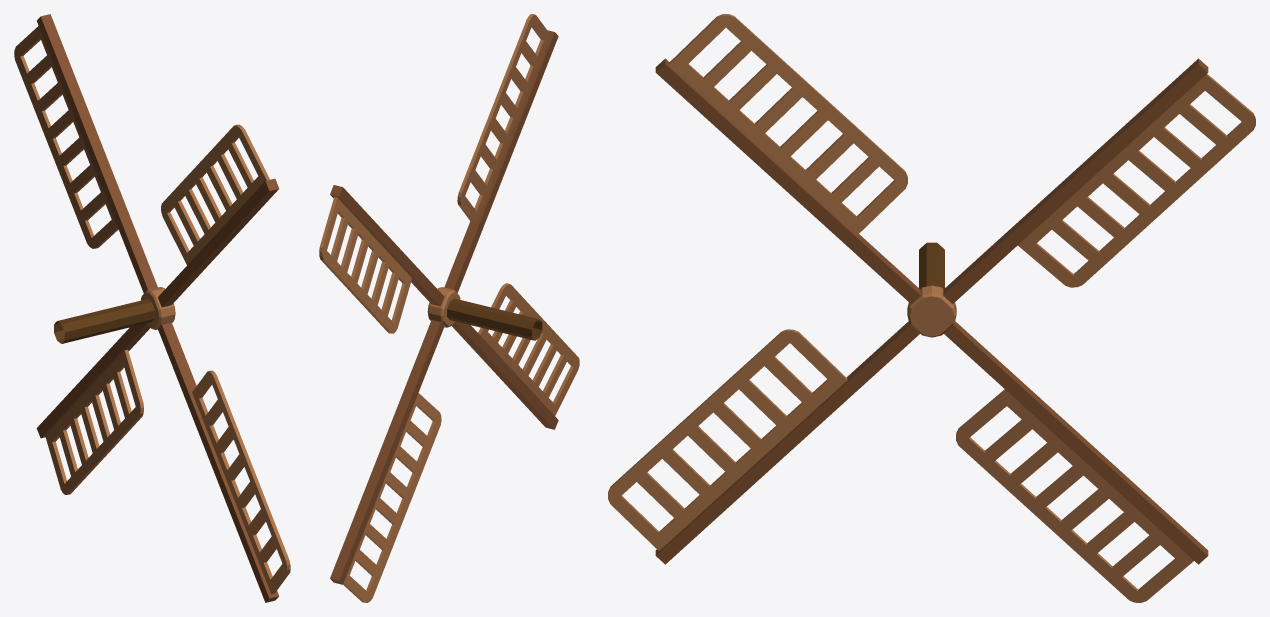
The model's file is Prop_Decorative_Windmill.obj.
The picture shows the model from 3 angles, left to right: view 1: azimuth 30°, elevation 25°; view 2: azimuth 150°, elevation 25°; view 3: azimuth 270°, elevation 25°; orthographic projection. The views are drawn at different scales.
Parts seen in each view (by area): view 1: Windmill_Blade, Windmill_Arm, Windmill_Shaft, Windmill_Center; view 2: Windmill_Blade, Windmill_Arm, Windmill_Shaft, Windmill_Center; view 3: Windmill_Blade, Windmill_Arm, Windmill_Center, Windmill_Shaft.
Boxes of the visible parts, left/top/right/bottom form: Windmill_Blade: left=14, top=26, right=290, bottom=594; Windmill_Arm: left=36, top=14, right=279, bottom=602; Windmill_Shaft: left=54, top=299, right=155, bottom=343; Windmill_Center: left=141, top=287, right=175, bottom=329; Windmill_Blade: left=319, top=14, right=579, bottom=602; Windmill_Arm: left=330, top=30, right=558, bottom=584; Windmill_Shaft: left=447, top=298, right=542, bottom=340; Windmill_Center: left=427, top=287, right=460, bottom=327; Windmill_Blade: left=608, top=14, right=1255, bottom=602; Windmill_Arm: left=655, top=58, right=1208, bottom=564; Windmill_Center: left=907, top=285, right=956, bottom=337; Windmill_Shaft: left=919, top=242, right=944, bottom=289.
Bounding box in the file's own units: 1.31 × 5.78 × 5.78.
